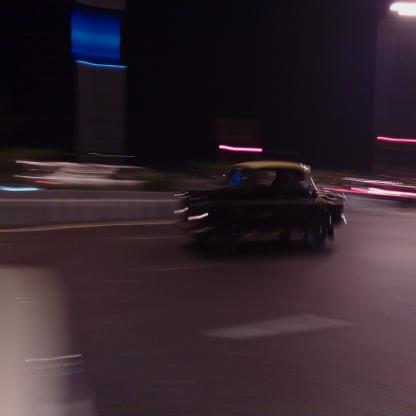car: (181, 162, 346, 250)
